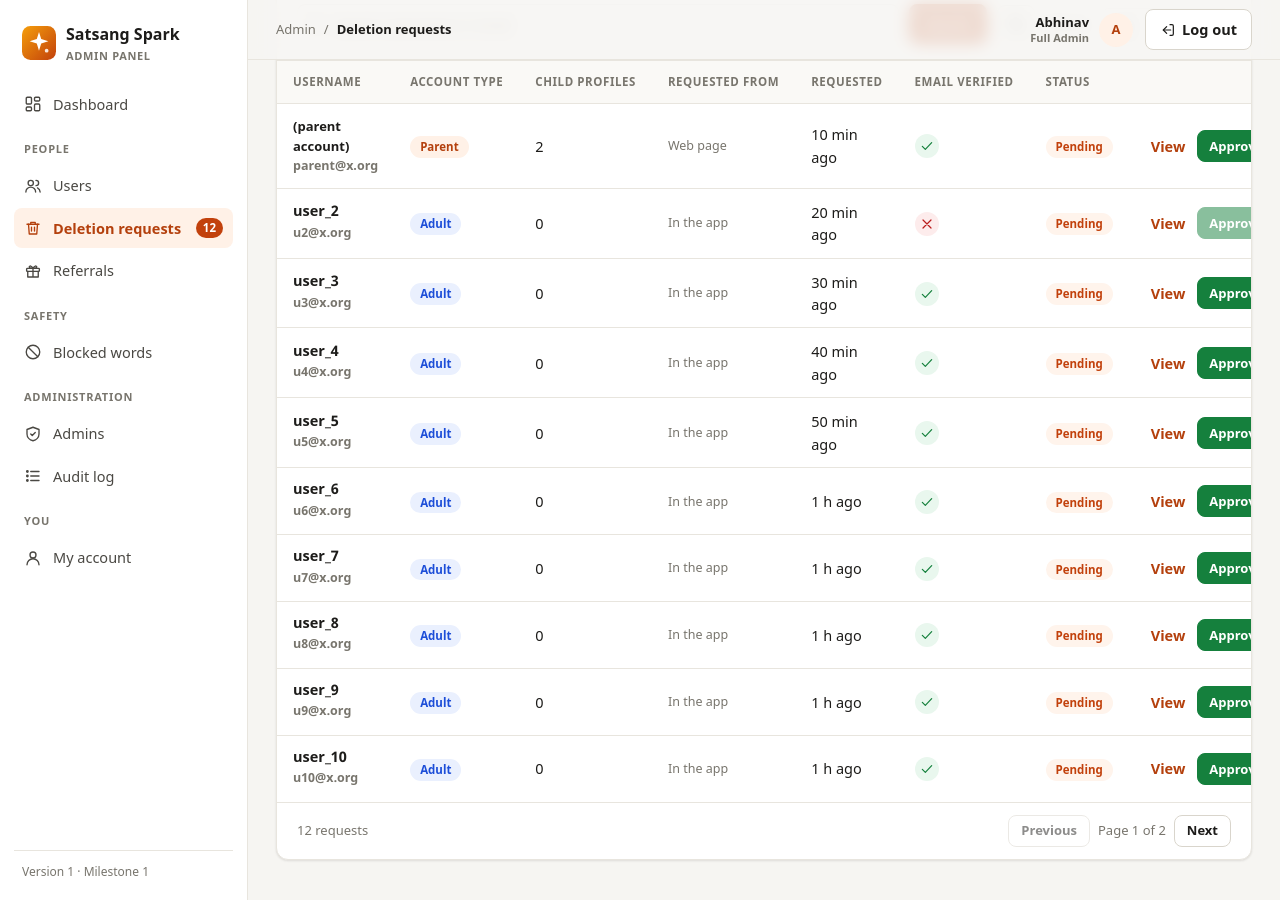
it: loads from the API: counts, columns, parent label, no sample banner, pagination and sidebar badge
(page scrolled)
Expected: the text "parent@x.org" is shown, [293,156,378,176]
Expected: the text "Web page" is shown, [652,103,795,188]
Click the button "Next": (1202, 830) [1174,814,1231,846]
(page scrolled)
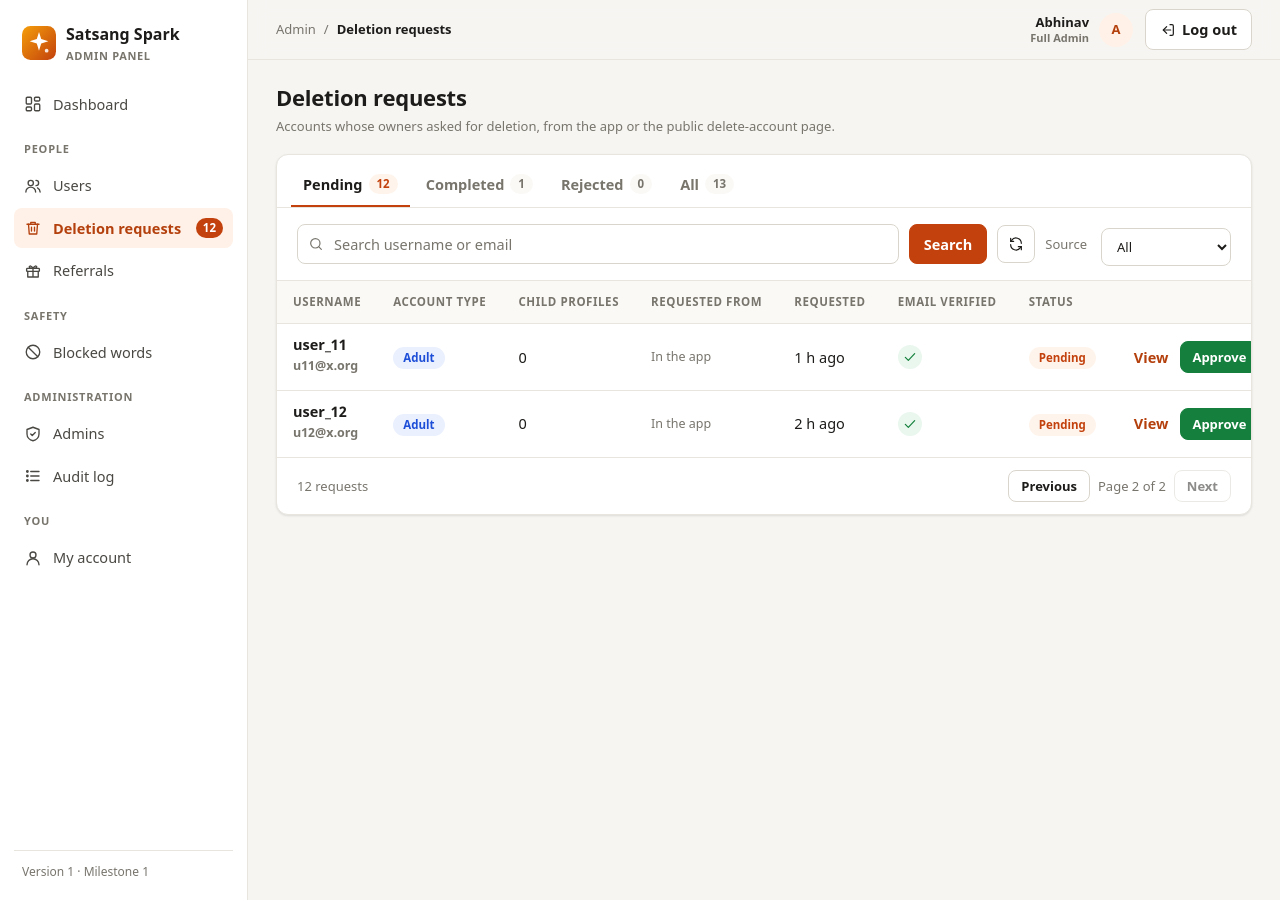
Expected: the link "Deletion requests 12" is shown, [14,208,233,248]
Now the text "Page 2 of 2" is shown, box [1098,476,1166,496]
